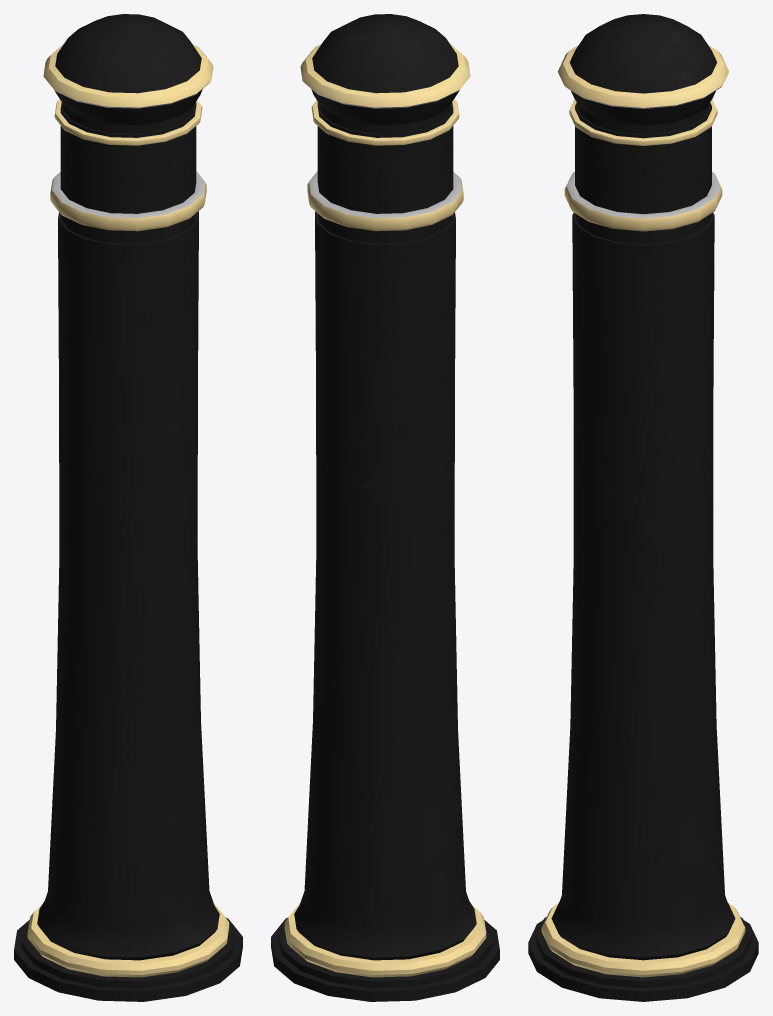
Rendered from OBJ-bollard.glb.
3 views of the same model, side by side, from view 1: azimuth 30°, elevation 25°; view 2: azimuth 150°, elevation 25°; view 3: azimuth 270°, elevation 25° (orthographic).
Visible parts, largest first — view 1: g; view 2: g; view 3: g.
Boxes of the visible parts, x1,y1,x2,y2 form: g: (14,14,242,1001); g: (271,14,499,1001); g: (528,14,758,1001).
Size of the model in its own units: 0.2249 by 1 by 0.2249.
Materials: 1 (1 with a texture image).
